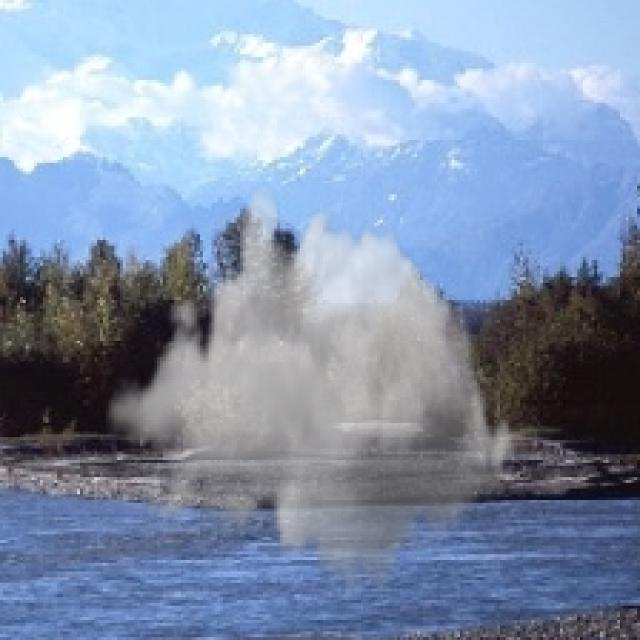smoke: (106, 180, 520, 600)
